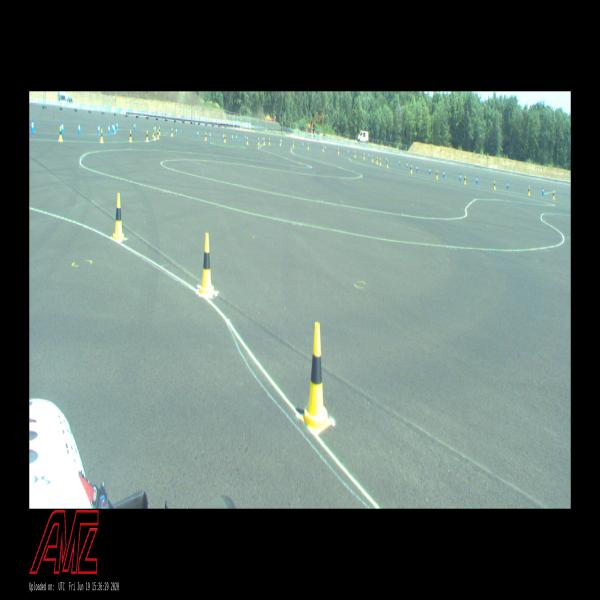blue_cone: (30, 118, 35, 134), (96, 123, 100, 134), (77, 122, 80, 134), (107, 123, 110, 134), (112, 121, 115, 132), (506, 180, 509, 189), (62, 121, 64, 133), (133, 121, 136, 129), (459, 173, 462, 181), (442, 170, 445, 178), (398, 159, 401, 166), (176, 126, 178, 136), (542, 186, 544, 196), (428, 166, 430, 176), (197, 129, 199, 138), (368, 152, 370, 160), (209, 131, 211, 139), (476, 176, 478, 184), (416, 164, 418, 172), (154, 124, 156, 132), (244, 134, 246, 141), (231, 133, 233, 140), (406, 161, 408, 168), (302, 142, 304, 148), (236, 134, 238, 140), (262, 136, 264, 142), (347, 149, 349, 154), (385, 157, 387, 162), (116, 121, 117, 129), (281, 138, 282, 146), (223, 132, 224, 140)
yellow_cone: (301, 323, 332, 432), (198, 234, 216, 296), (112, 194, 125, 240), (58, 126, 63, 140), (128, 130, 132, 141), (100, 129, 103, 142), (157, 129, 160, 140), (493, 180, 496, 190), (552, 190, 555, 199), (153, 131, 156, 140), (170, 128, 173, 136), (464, 174, 466, 185), (146, 130, 148, 141), (436, 169, 438, 180), (410, 163, 412, 174), (159, 126, 161, 136), (224, 134, 226, 144), (528, 186, 530, 195), (153, 127, 155, 136), (354, 150, 356, 158), (258, 138, 260, 146), (379, 157, 381, 165), (372, 154, 374, 162), (322, 144, 324, 152), (337, 148, 339, 155), (376, 156, 378, 163), (363, 153, 365, 159), (280, 138, 281, 147), (293, 140, 294, 148), (247, 137, 248, 145), (308, 142, 309, 150), (205, 132, 206, 140), (264, 138, 265, 146), (387, 160, 388, 167), (269, 138, 270, 145)
